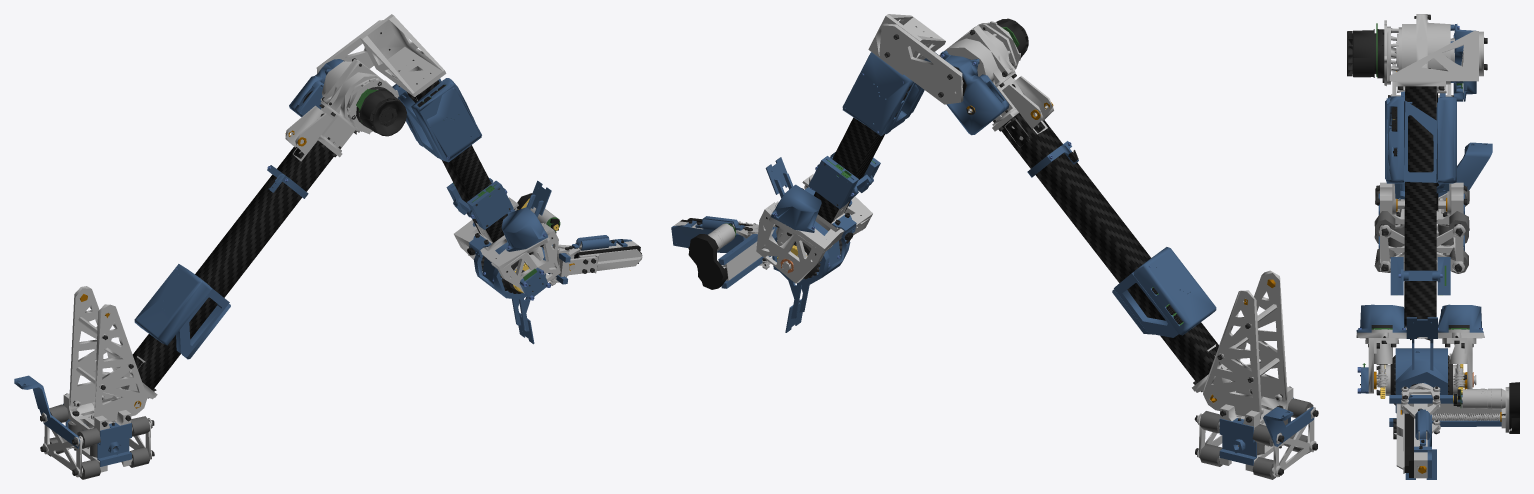
The model's file is arm.glb.
3 views of the same model, side by side, from view 1: azimuth 30°, elevation 25°; view 2: azimuth 150°, elevation 25°; view 3: azimuth 270°, elevation 25° (orthographic). The views are drawn at different scales.
Parts seen in each view (by area): view 1: 109257_A;1-MRVR26.RA.SEG.CF_BC_REDESIGN, 109545_A;1-MRVR26.RA.SEG.CF_CDE_26, 6338K411_A;1.001, 112619_A;1-MRVR26.RA.DE.CAMERA_MOUNT.002, 112619_A;1-MRVR26.RA.DE.CAMERA_MOUNT.001, 113652_A;1-MRVR26.RA.EE.CAM_FINGER; view 2: 109257_A;1-MRVR26.RA.SEG.CF_BC_REDESIGN, 109545_A;1-MRVR26.RA.SEG.CF_CDE_26, 6338K411_A;1.001, 112619_A;1-MRVR26.RA.DE.CAMERA_MOUNT.002, 112619_A;1-MRVR26.RA.DE.CAMERA_MOUNT.001, 113652_A;1-MRVR26.RA.EE.CAM_FINGER; view 3: 109545_A;1-MRVR26.RA.SEG.CF_CDE_26, 109257_A;1-MRVR26.RA.SEG.CF_BC_REDESIGN, 6338K411_A;1.001, 112619_A;1-MRVR26.RA.DE.CAMERA_MOUNT.002, 112619_A;1-MRVR26.RA.DE.CAMERA_MOUNT.001, 113652_A;1-MRVR26.RA.EE.CAM_FINGER.
Boxes of the visible parts, bbox=[...] form: 109257_A;1-MRVR26.RA.SEG.CF_BC_REDESIGN: bbox=[113, 58, 406, 404]; 109545_A;1-MRVR26.RA.SEG.CF_CDE_26: bbox=[316, 14, 560, 300]; 6338K411_A;1.001: bbox=[14, 286, 154, 479]; 112619_A;1-MRVR26.RA.DE.CAMERA_MOUNT.002: bbox=[516, 193, 642, 284]; 112619_A;1-MRVR26.RA.DE.CAMERA_MOUNT.001: bbox=[474, 180, 551, 344]; 113652_A;1-MRVR26.RA.EE.CAM_FINGER: bbox=[542, 235, 640, 285]; 109257_A;1-MRVR26.RA.SEG.CF_BC_REDESIGN: bbox=[939, 18, 1234, 398]; 109545_A;1-MRVR26.RA.SEG.CF_CDE_26: bbox=[756, 14, 966, 283]; 6338K411_A;1.001: bbox=[1194, 270, 1318, 479]; 112619_A;1-MRVR26.RA.DE.CAMERA_MOUNT.002: bbox=[687, 218, 774, 289]; 112619_A;1-MRVR26.RA.DE.CAMERA_MOUNT.001: bbox=[765, 157, 850, 332]; 113652_A;1-MRVR26.RA.EE.CAM_FINGER: bbox=[671, 216, 775, 269]; 109545_A;1-MRVR26.RA.SEG.CF_CDE_26: bbox=[1356, 31, 1487, 393]; 109257_A;1-MRVR26.RA.SEG.CF_BC_REDESIGN: bbox=[1347, 14, 1476, 221]; 6338K411_A;1.001: bbox=[1374, 63, 1492, 273]; 112619_A;1-MRVR26.RA.DE.CAMERA_MOUNT.002: bbox=[1389, 382, 1519, 473]; 112619_A;1-MRVR26.RA.DE.CAMERA_MOUNT.001: bbox=[1376, 317, 1476, 479]; 113652_A;1-MRVR26.RA.EE.CAM_FINGER: bbox=[1401, 386, 1440, 478].
Size of the model in its own units: 95.89 by 54.05 by 20.93.
Materials: 50 (2 with a texture image).
